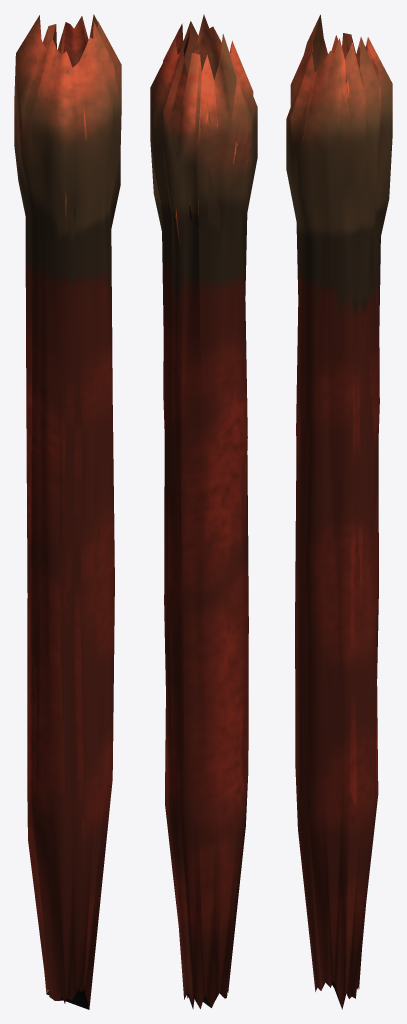
File: torche_bois.gltf
3 views of the same model, side by side, from view 1: azimuth 30°, elevation 25°; view 2: azimuth 150°, elevation 25°; view 3: azimuth 330°, elevation 25° (orthographic).
Visible parts, largest first — view 1: torcheBois; view 2: torcheBois; view 3: torcheBois.
Part boxes in pixels (x1,y1,x2,y2): torcheBois: [14, 14, 121, 1009]; torcheBois: [150, 14, 257, 1009]; torcheBois: [286, 14, 392, 1009].
Size of the model in its own units: 0.0611 by 0.6307 by 0.061.
